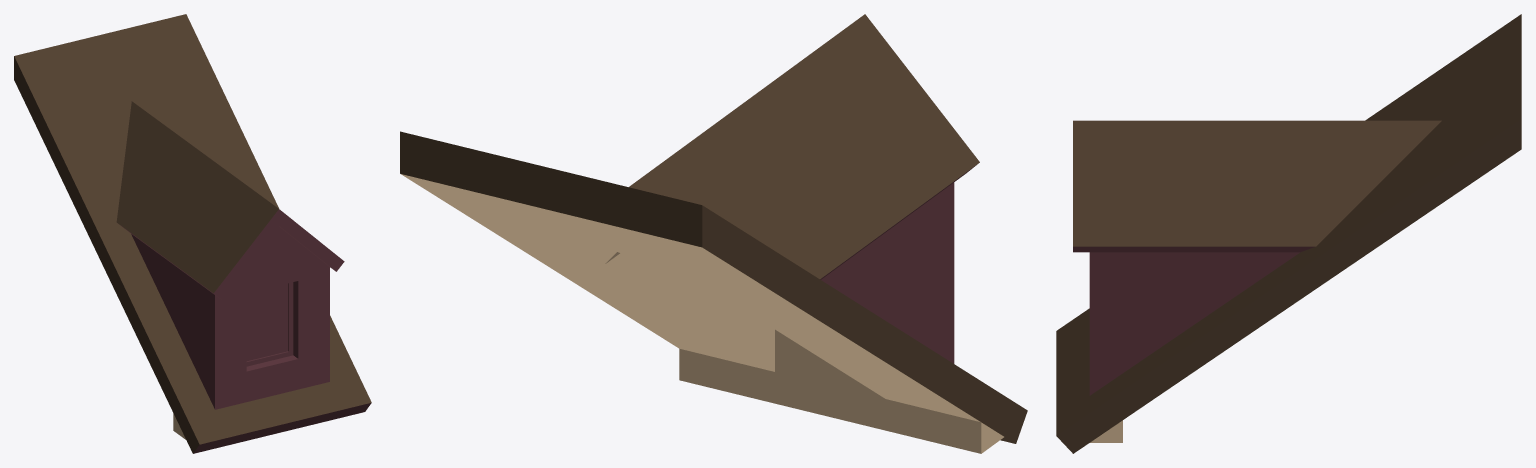
Rendered from house-roof-window-3x3m.fbx.
The picture shows the model from 3 angles, left to right: view 1: azimuth 30°, elevation 25°; view 2: azimuth 150°, elevation 25°; view 3: azimuth 270°, elevation 25°; orthographic projection. The views are drawn at different scales.
Parts seen in each view (by area): view 1: house-roof-window-3x3m; view 2: house-roof-window-3x3m; view 3: house-roof-window-3x3m.
Part boxes in pixels (left/top/right/bottom): house-roof-window-3x3m: left=14, top=14, right=371, bottom=453; house-roof-window-3x3m: left=400, top=14, right=1027, bottom=453; house-roof-window-3x3m: left=1056, top=14, right=1521, bottom=453.
Size of the model in its own units: 3 by 4.45 by 5.6.
